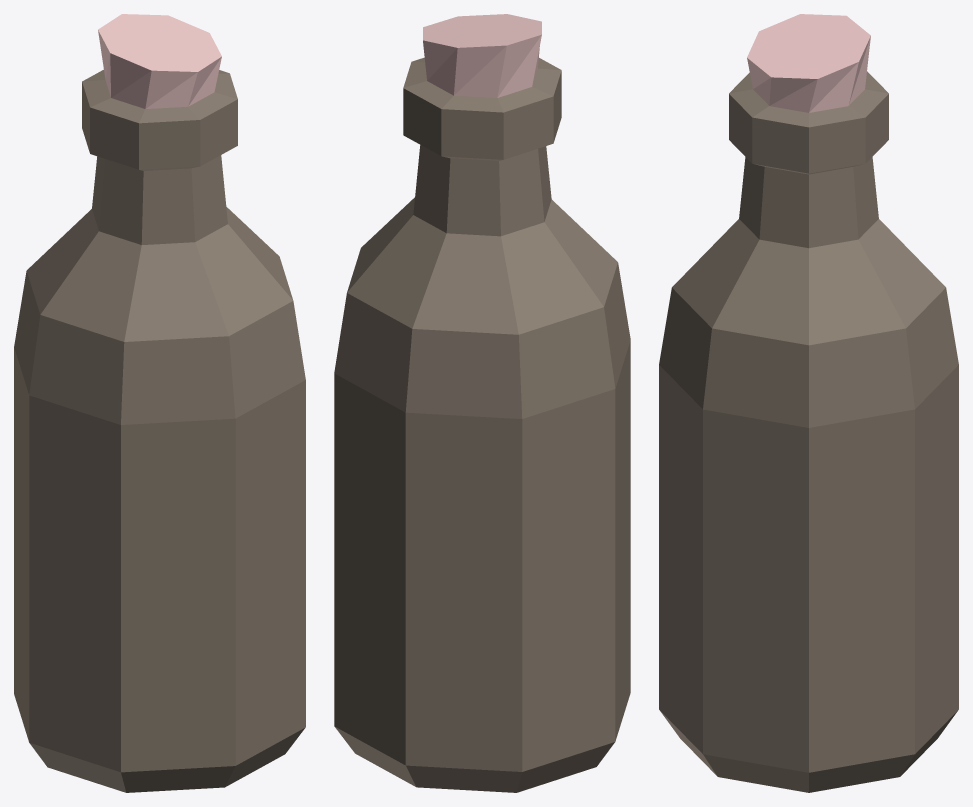
The model's file is SM_Item_Bottle_01.glb.
The picture shows the model from 3 angles, left to right: view 1: azimuth 30°, elevation 25°; view 2: azimuth 150°, elevation 25°; view 3: azimuth 270°, elevation 25°; orthographic projection. The views are drawn at different scales.
Parts seen in each view (by area): view 1: SM_Item_Bottle_01_00; view 2: SM_Item_Bottle_01_00; view 3: SM_Item_Bottle_01_00.
Part boxes in pixels (bbox=[...]): SM_Item_Bottle_01_00: bbox=[14, 14, 305, 792]; SM_Item_Bottle_01_00: bbox=[334, 14, 630, 792]; SM_Item_Bottle_01_00: bbox=[659, 14, 958, 792].
Size of the model in its own units: 0.1286 by 0.3321 by 0.1286.
1 material, 1 textured.
